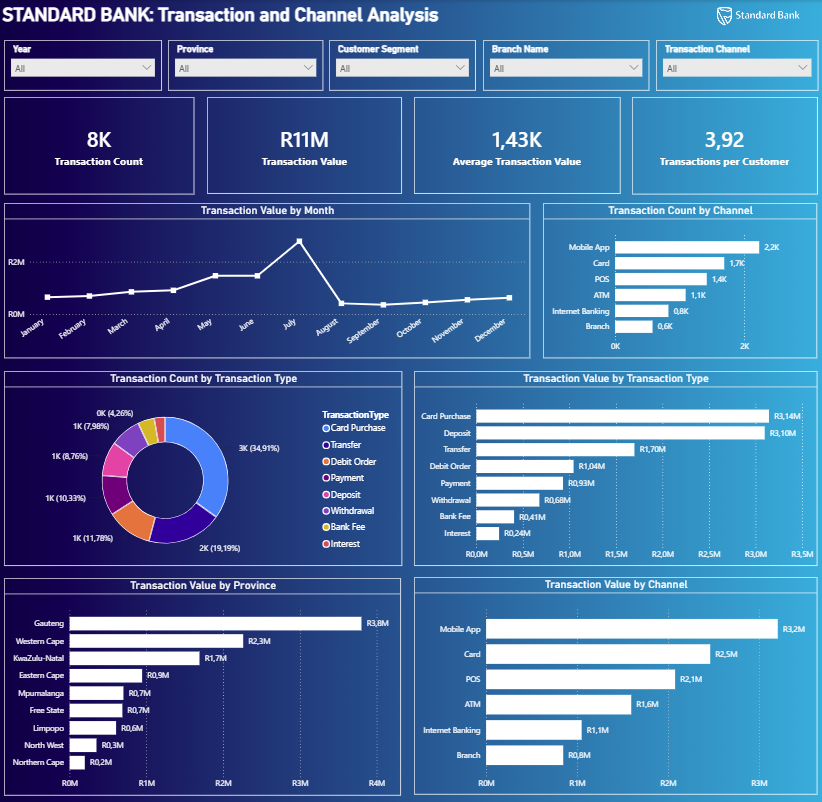

The page's visual inventory and layout, read from the dashboard file:
{"tool":"powerbi","page":{"name":"TransactionChannelAnalysis","canvas":[1280,1250],"ordinal":3},"visuals":[{"type":"textbox","box":[0,0,1279.2,61.6],"z":0},{"type":"image","box":[1059.1,0,220.1,53.9],"z":1000},{"type":"cardVisual","fields":{"Data":["Measures (2).Transaction Count"]},"box":[8.3,149.7,293,149.7],"z":2000},{"type":"cardVisual","fields":{"Data":["Measures (2).Transaction Value"]},"box":[320.3,149.5,300.2,149.5],"z":3000},{"type":"cardVisual","fields":{"Data":["Measures (2).Average Transaction Value"]},"box":[639.4,149.5,317.8,149.5],"z":4000},{"type":"cardVisual","fields":{"Data":["Measures (2).Transactions per Customer"]},"box":[975,149.7,285.6,149.7],"z":5000},{"type":"slicer","title":"ss","fields":{"Values":["DimDate.Year"]},"box":[8.3,61,243.1,77.6],"z":6000},{"type":"slicer","title":"ss","fields":{"Values":["Branches.Province"]},"box":[260.6,61,239.4,77.6],"z":7000},{"type":"slicer","title":"ss","fields":{"Values":["Customers.CustomerSegment"]},"box":[507.4,61,225.5,77.6],"z":8000},{"type":"slicer","title":"ss","fields":{"Values":["Branches.BranchName"]},"box":[745.8,61,256,77.6],"z":9000},{"type":"slicer","title":"ss","fields":{"Values":["Transactions.Channel"]},"box":[1011.1,61,249.5,77.6],"z":10000},{"type":"lineChart","fields":{"Category":["DimDate.Month"],"Y":["Measures (2).Transaction Value"]},"box":[8.1,312,809.9,239.3],"z":11000},{"type":"clusteredBarChart","fields":{"Y":["Measures (2).Transaction Count"],"Category":["Transactions.Channel"]},"box":[838.2,312,422.1,239.3],"z":12000},{"type":"donutChart","title":"Transaction Count by Transaction Type","fields":{"Y":["Measures (2).Transaction Count"],"Category":["Transactions.TransactionType"]},"box":[7.5,571.6,613,300.2],"z":13000},{"type":"clusteredBarChart","title":"Transaction Value by Transaction Type","fields":{"Y":["Measures (2).Transaction Value"],"Category":["Transactions.TransactionType"]},"box":[639.4,571.6,620.5,300.2],"z":14000},{"type":"clusteredBarChart","fields":{"Category":["Branches.Province"],"Y":["Measures (2).Transaction Value"]},"box":[8.1,889.2,611.2,334.9],"z":15000},{"type":"clusteredBarChart","fields":{"Category":["Transactions.Channel"],"Y":["Measures (2).Transaction Value"]},"box":[639,889,621,335],"z":16000}]}

Visuals, with their boxes in screenshot pixels (x1, y1, x2, y2), scaled from the page's 1280x1250 canvas onto the 822x802 screenshot:
textbox: 0/0/821/40
image: 680/0/821/35
cardVisual - Measures (2).Transaction Count: 5/96/193/192
cardVisual - Measures (2).Transaction Value: 206/96/398/192
cardVisual - Measures (2).Average Transaction Value: 411/96/615/192
cardVisual - Measures (2).Transactions per Customer: 626/96/810/192
"ss" slicer: 5/39/161/89
"ss" slicer: 167/39/321/89
"ss" slicer: 326/39/471/89
"ss" slicer: 479/39/643/89
"ss" slicer: 649/39/810/89
lineChart - DimDate.Month x Measures (2).Transaction Value: 5/200/525/354
clusteredBarChart - Measures (2).Transaction Count x Transactions.Channel: 538/200/809/354
"Transaction Count by Transaction Type" donutChart: 5/367/398/559
"Transaction Value by Transaction Type" clusteredBarChart: 411/367/809/559
clusteredBarChart - Branches.Province x Measures (2).Transaction Value: 5/571/398/785
clusteredBarChart - Transactions.Channel x Measures (2).Transaction Value: 410/570/809/785
